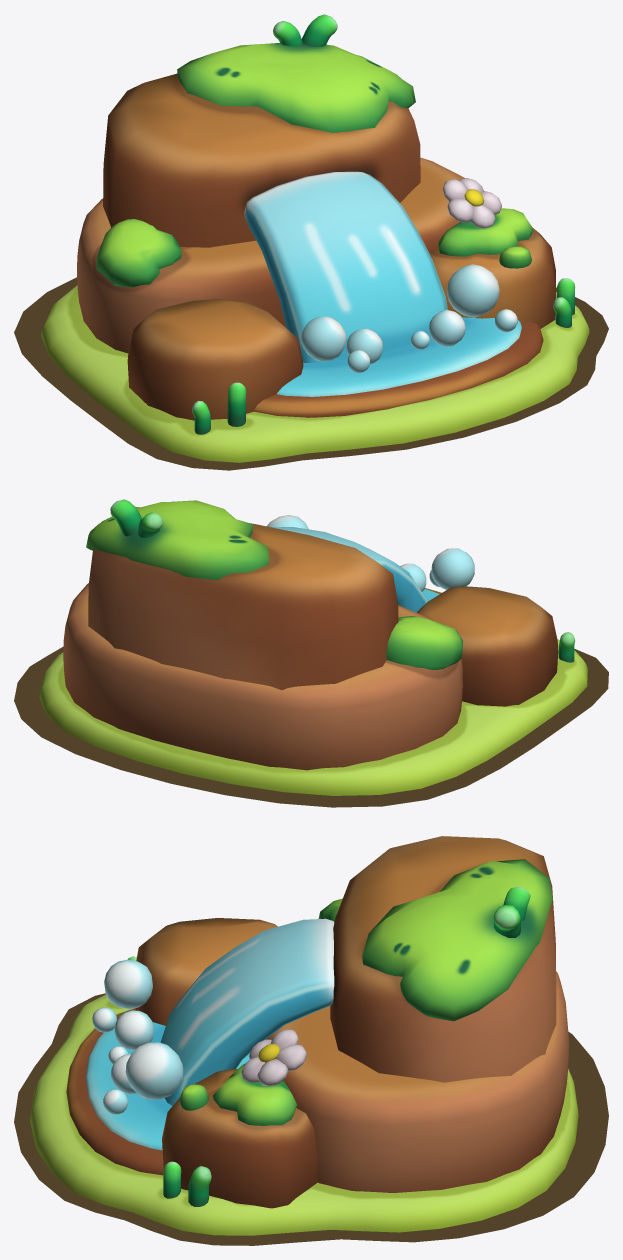
Rendered from Veg_Pool.fbx.
The picture shows the model from 3 angles, top to bottom: view 1: azimuth 30°, elevation 25°; view 2: azimuth 150°, elevation 25°; view 3: azimuth 270°, elevation 25°; orthographic projection. The views are drawn at different scales.
Parts seen in each view (by area): view 1: pool_Base, pool_Water, Vpool_SDW, pool_bubble; view 2: pool_Base, Vpool_SDW, pool_bubble, pool_Water; view 3: pool_Base, pool_Water, Vpool_SDW, pool_bubble.
Boxes of the visible parts, x1,y1,x2,y2 form: pool_Base: (41, 14, 589, 462); pool_Water: (244, 171, 521, 396); Vpool_SDW: (14, 277, 608, 470); pool_bubble: (301, 264, 517, 372); pool_Base: (39, 499, 587, 795); Vpool_SDW: (14, 646, 608, 807); pool_bubble: (267, 515, 474, 591); pool_Water: (272, 527, 439, 612); pool_Base: (30, 836, 578, 1235); pool_Water: (85, 918, 334, 1150); Vpool_SDW: (14, 993, 608, 1245); pool_bubble: (92, 959, 183, 1114).
Bounding box in the file's own units: 315 × 146 × 302.
Materials: 2 (1 with a texture image).
